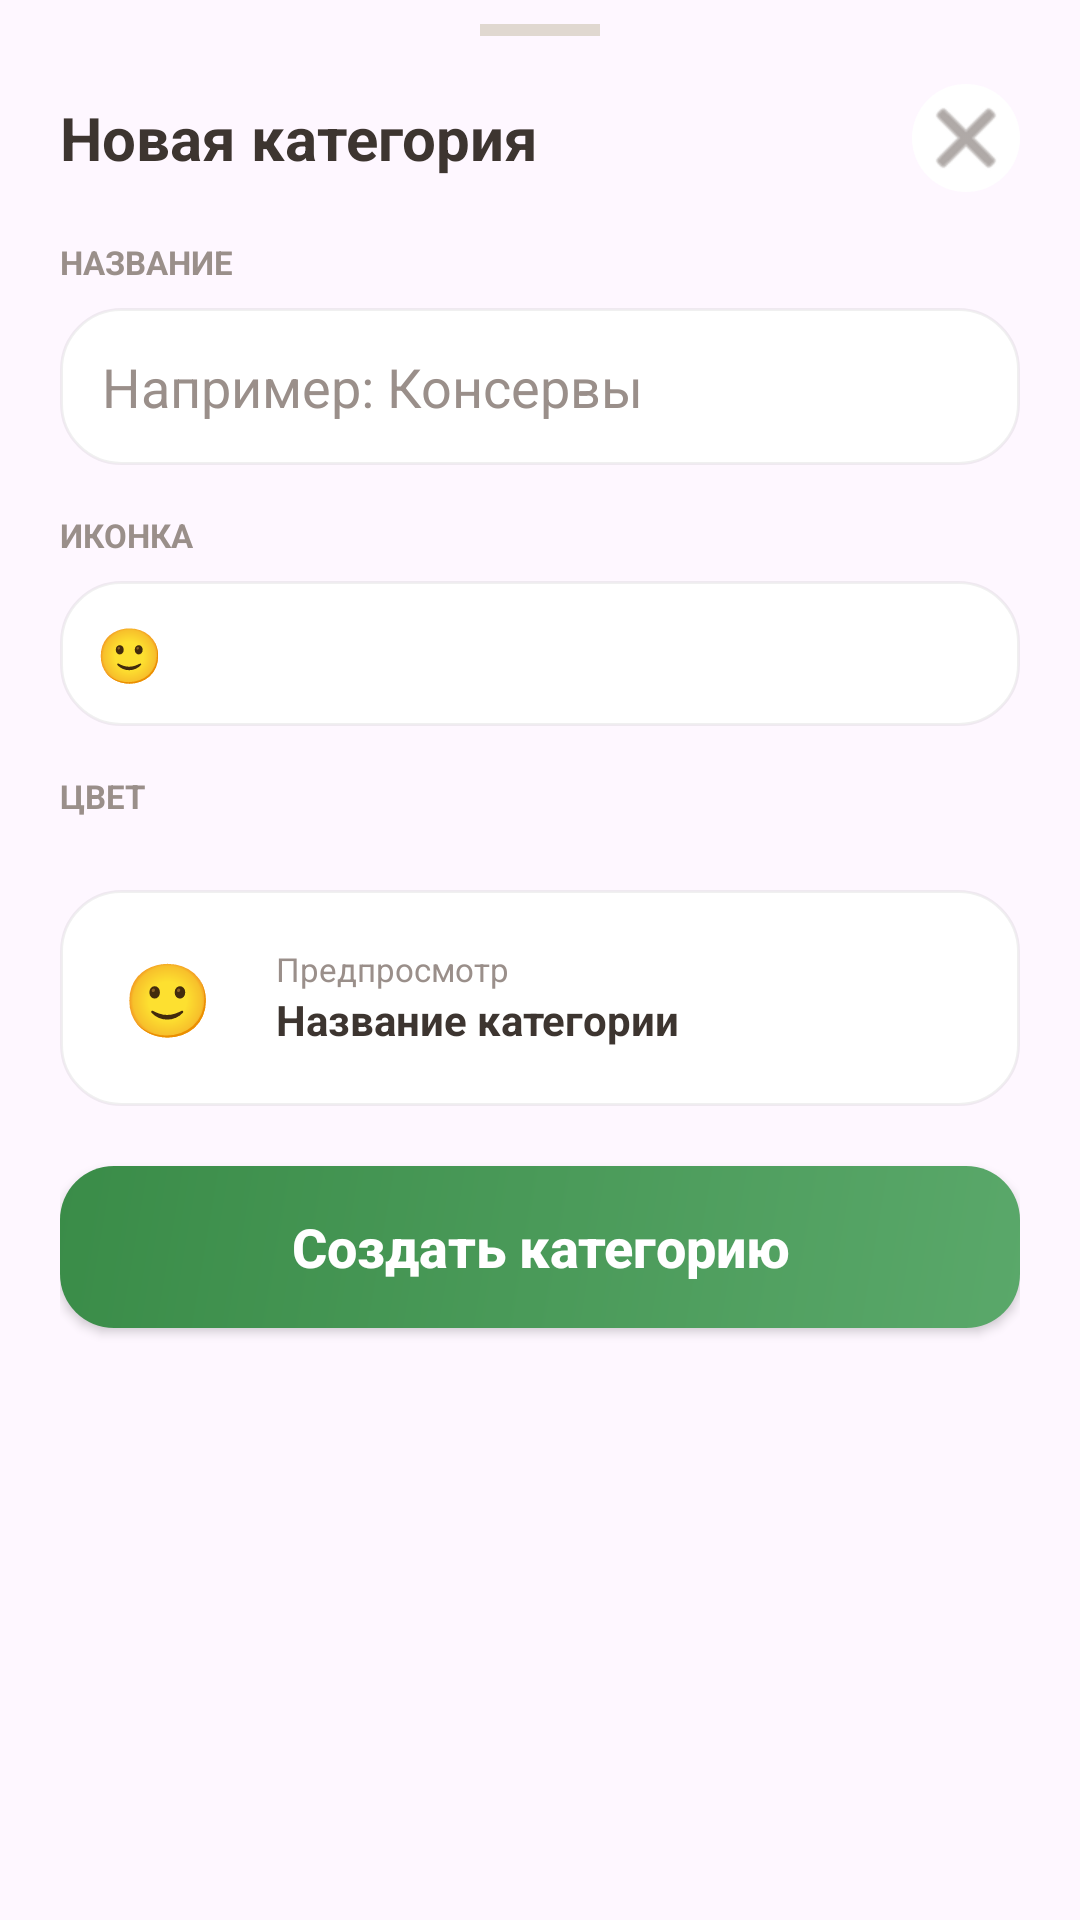

Locate icon controls on the screen. Image size 1080*1920, boxes as {"x1": x1, "y1": y1, "x2": x2, "y2": y2}.
Закрыть: {"x1": 936, "y1": 108, "x2": 996, "y2": 168}
